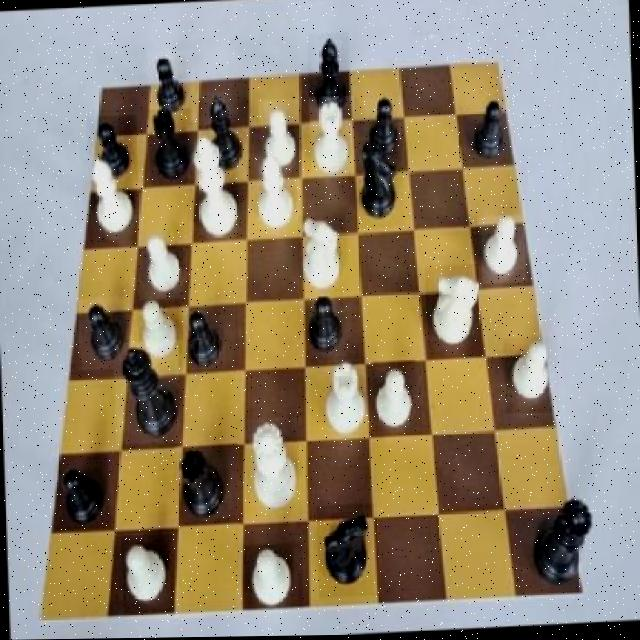bishop: (196, 91, 246, 181), (306, 33, 351, 123)
black-bishop: (112, 339, 182, 444)
black-king: (316, 503, 378, 600), (354, 140, 404, 230)
black-knight: (53, 455, 111, 532), (80, 297, 132, 372), (297, 291, 351, 362), (86, 114, 139, 184), (147, 50, 197, 124), (466, 94, 511, 166), (362, 97, 404, 168), (182, 307, 226, 372)
black-pawn: (528, 488, 603, 592)
black-queen: (175, 434, 240, 533), (149, 108, 194, 187)
black-rook: (246, 152, 306, 237), (81, 154, 137, 245)
white-bishop: (186, 125, 238, 242)
white-king: (424, 265, 482, 362), (298, 214, 349, 296)
white-knight: (120, 533, 175, 616), (503, 338, 560, 416), (243, 544, 303, 615), (259, 100, 302, 178), (139, 233, 189, 300), (372, 363, 418, 434), (137, 298, 183, 368), (480, 217, 526, 286)
white-pawn: (246, 416, 306, 521)
white-queen: (319, 354, 369, 442), (310, 97, 356, 177)
